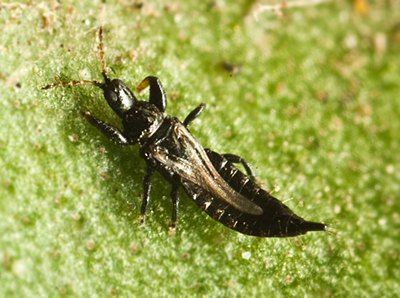Thrips: (45, 19, 341, 258)
